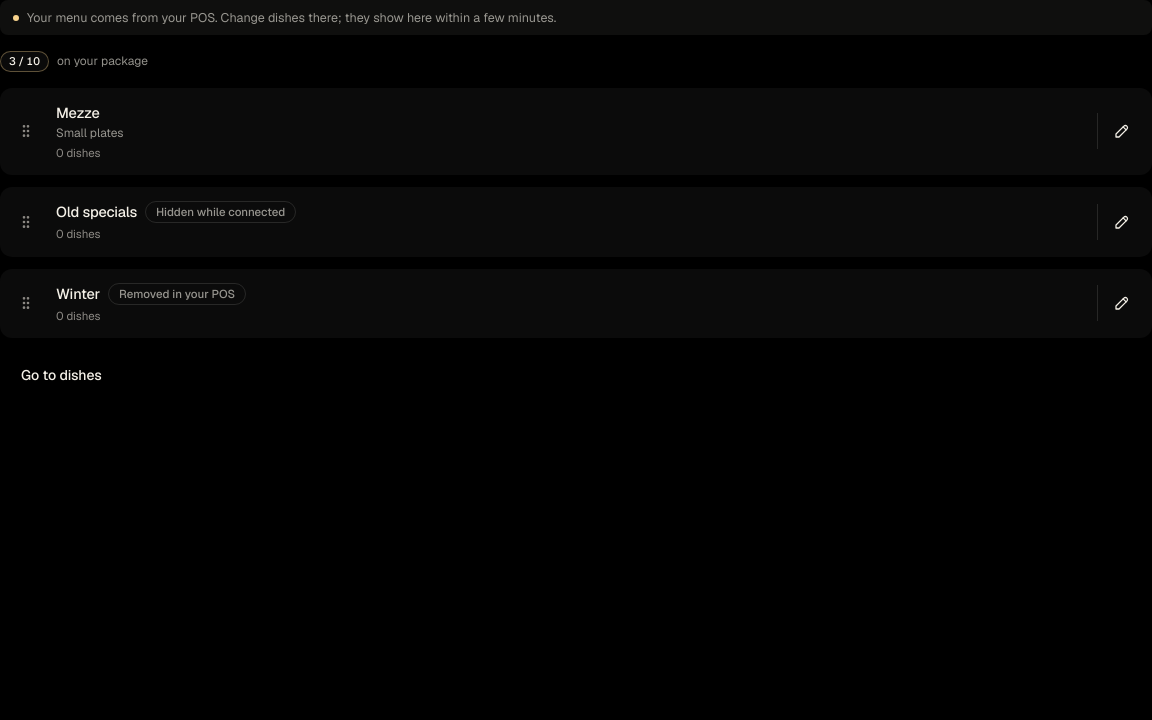
Scenario: The menu while it comes from a POS › shows the server’s refusal when the icon cannot be saved
Click the button named "Edit Mezze" at [1122, 131], box [1102,111,1142,151]
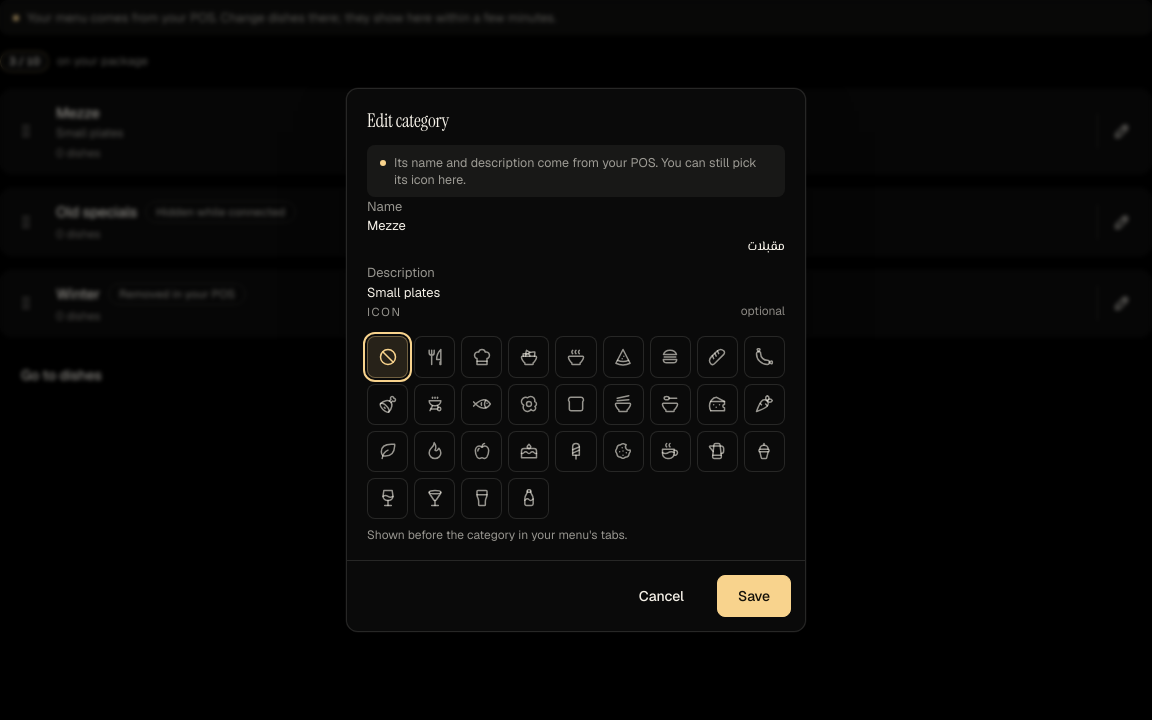
Click the button "Save" at [754, 596], box [717,575,791,617]
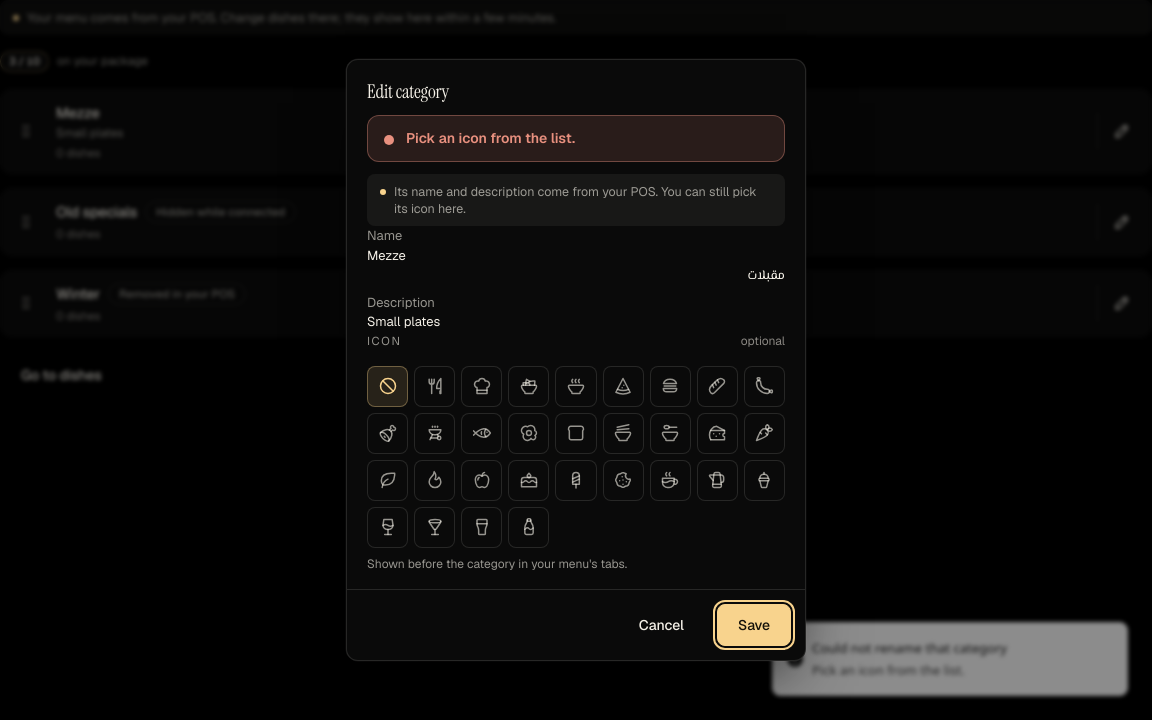
expect the text "Pick an icon from the list." is shown: met, box [406,129,575,147]
